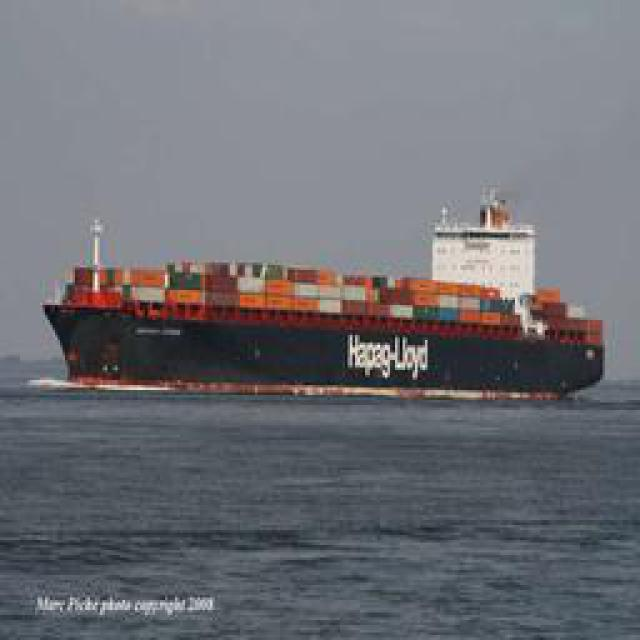Ship: (34, 205, 619, 405)
